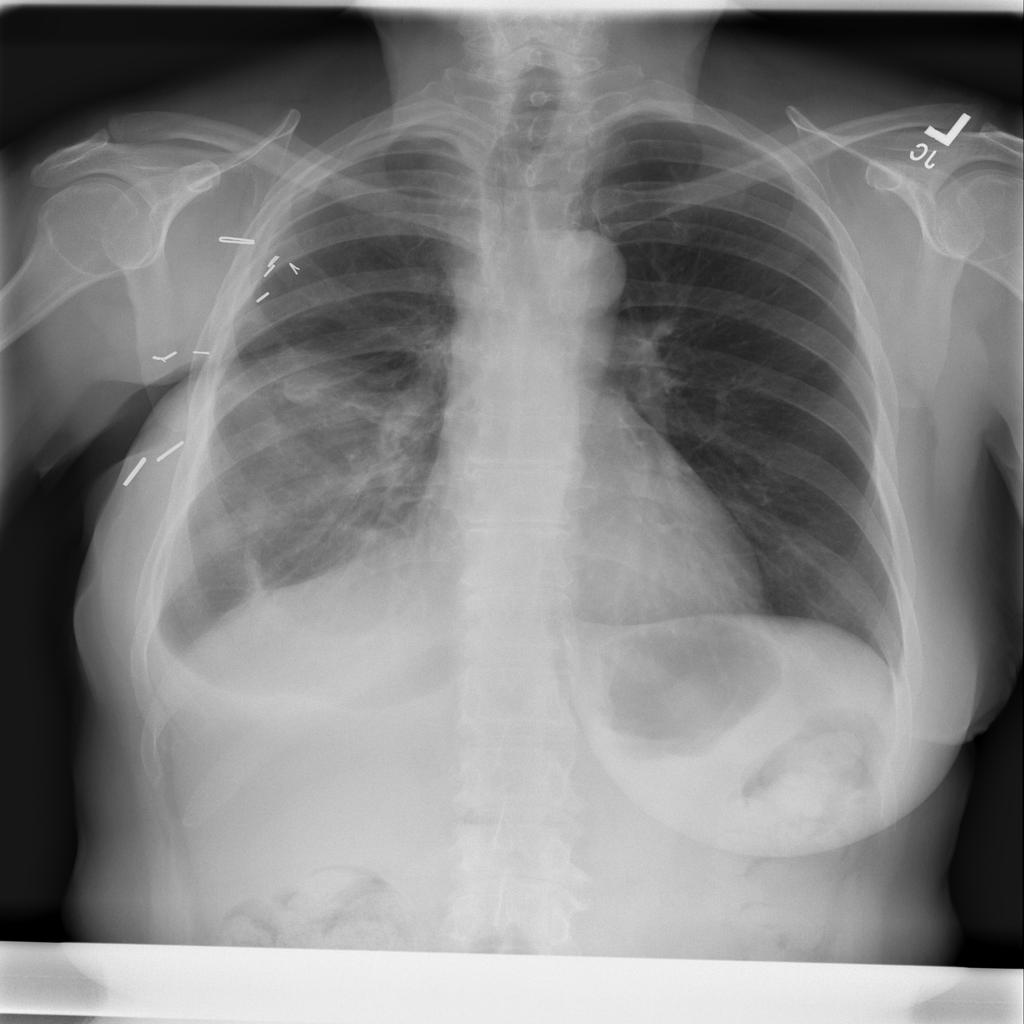nodule: (263, 352, 352, 417)
